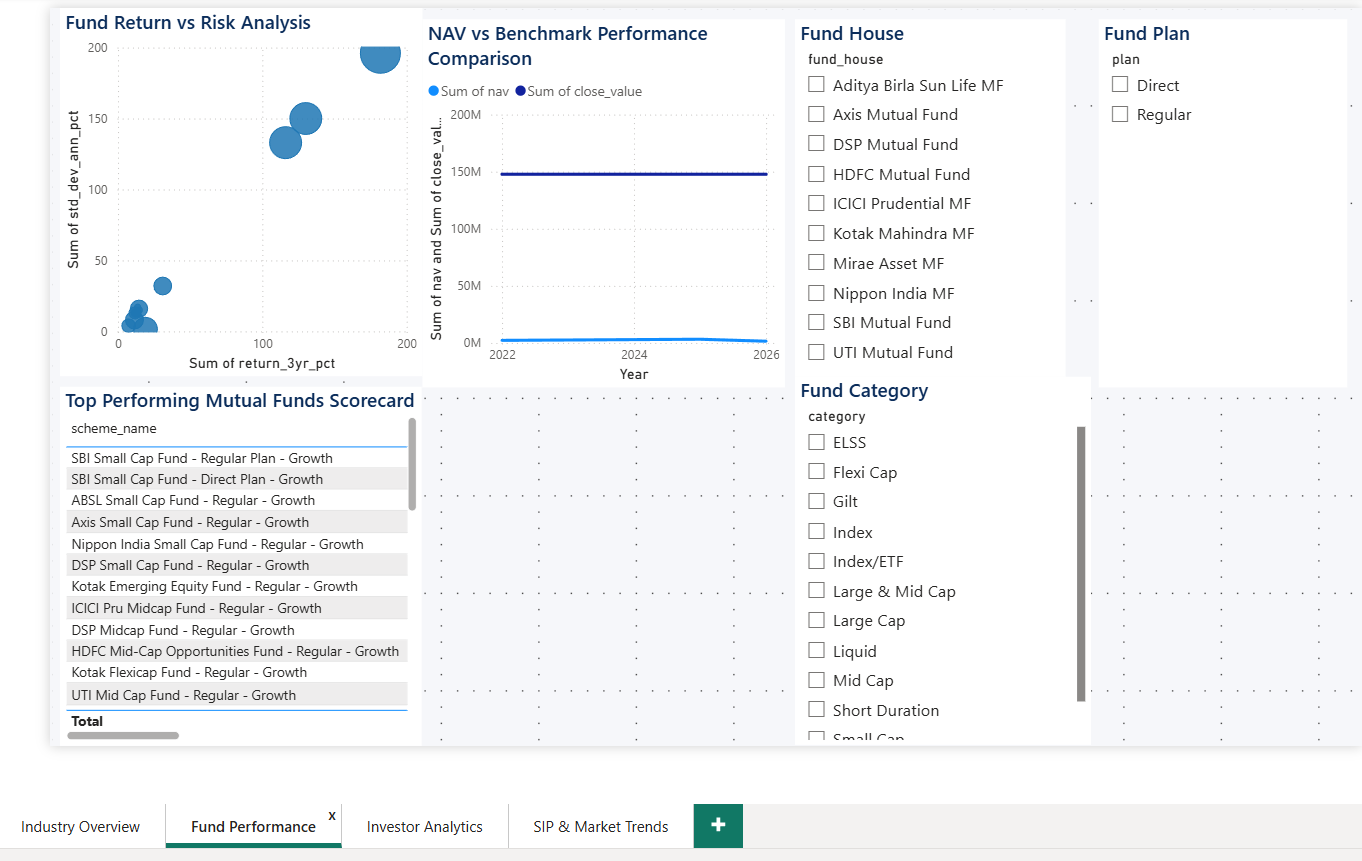

Layout of this report page (visuals, bound fields, positions):
{"tool":"powerbi","page":{"name":"Fund Performance","canvas":[1280,720],"ordinal":1},"visuals":[{"type":"scatterChart","title":"Fund Return vs Risk Analysis","fields":{"X":["Sum(clean_performance.return_3yr_pct)"],"Y":["Sum(clean_performance.std_dev_ann_pct)"],"Size":["Sum(clean_performance.aum_crore)"],"Category":["clean_performance.category"]},"box":[9.8,0,353.4,359.5],"z":0},{"type":"tableEx","title":"Top Performing Mutual Funds Scorecard","fields":{"Values":["clean_performance.scheme_name","clean_performance.fund_house","clean_performance.category","Sum(clean_performance.return_3yr_pct)","Sum(clean_performance.std_dev_ann_pct)","Sum(clean_performance.aum_crore)"]},"box":[10,370,353,350],"z":1000},{"type":"lineChart","title":"NAV vs Benchmark Performance Comparison","fields":{"Category":["clean_nav_history.date.Variation.Date Hierarchy.Year","clean_nav_history.date.Variation.Date Hierarchy.Quarter","clean_nav_history.date.Variation.Date Hierarchy.Month","clean_nav_history.date.Variation.Date Hierarchy.Day"],"Y":["Sum(clean_nav_history.nav)","Sum(clean_benchmark_indices.close_value)"]},"box":[363.2,11,353.4,359.5],"z":2000},{"type":"slicer","title":"Fund House","fields":{"Values":["clean_performance.fund_house"]},"box":[726.3,10.9,264.2,348.7],"z":3000},{"type":"slicer","title":"Fund Category","fields":{"Values":["clean_performance.category"]},"box":[726.4,359.5,288.6,359.5],"z":4000},{"type":"slicer","title":"Fund Plan","fields":{"Values":["clean_performance.plan"]},"box":[1023.5,11,242.1,359.5],"z":5000}]}

Visuals, with their boxes on the page's 1280x720 design canvas (x1, y1, x2, y2). These are canvas units, not pixel positions in the 1362x861 screenshot, which may show the page scaled, cropped or inside an application window:
"Fund Return vs Risk Analysis" scatterChart: locate(10, 0, 363, 360)
"Top Performing Mutual Funds Scorecard" tableEx: locate(10, 370, 363, 720)
"NAV vs Benchmark Performance Comparison" lineChart: locate(363, 11, 717, 370)
"Fund House" slicer: locate(726, 11, 990, 360)
"Fund Category" slicer: locate(726, 360, 1015, 719)
"Fund Plan" slicer: locate(1024, 11, 1266, 370)
